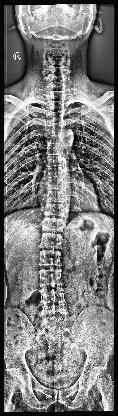Vertebrae: (38, 304, 68, 320), (38, 268, 64, 286), (39, 287, 67, 303), (39, 233, 63, 249), (38, 250, 62, 266), (42, 218, 64, 232), (46, 178, 66, 190), (44, 204, 64, 216), (46, 192, 66, 202), (46, 143, 62, 155), (45, 156, 63, 166), (46, 168, 64, 178), (48, 112, 62, 124), (48, 124, 62, 134), (48, 136, 62, 145)
